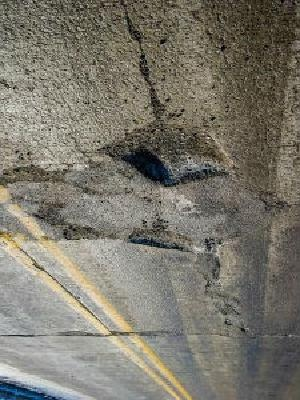pothole: (101, 117, 237, 188), (0, 162, 68, 190), (123, 228, 194, 254), (60, 224, 106, 243)
